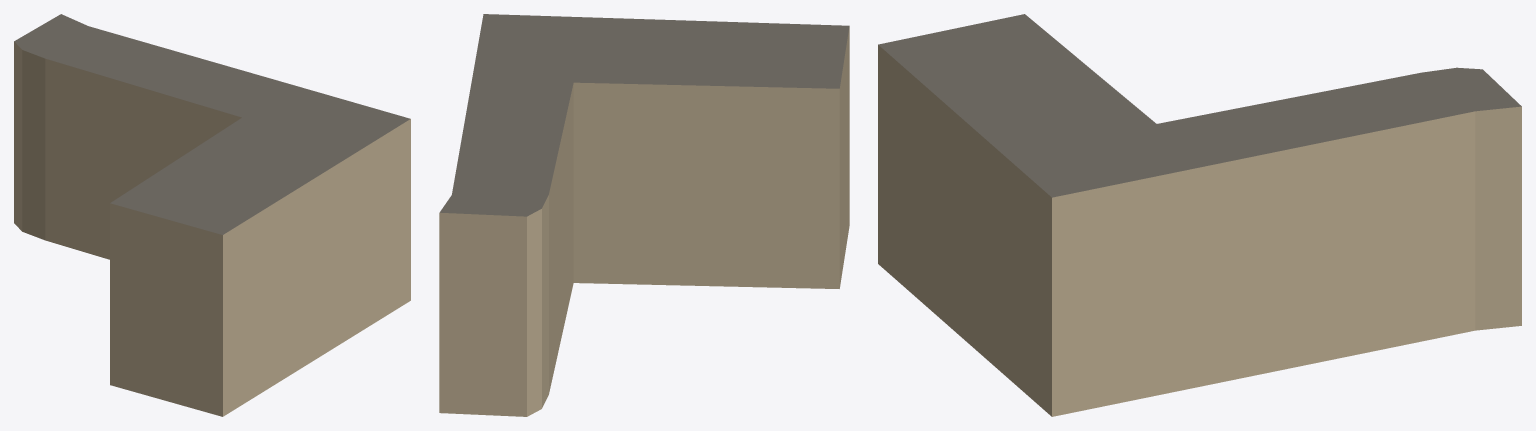
3 views of the same model, side by side, from view 1: azimuth 30°, elevation 25°; view 2: azimuth 150°, elevation 25°; view 3: azimuth 270°, elevation 25° (orthographic). The views are drawn at different scales.
Visible parts, largest first — view 1: HP-w505661373; view 2: HP-w505661373; view 3: HP-w505661373.
Part boxes in pixels (left/top/right/bottom): HP-w505661373: left=14, top=14, right=410, bottom=416; HP-w505661373: left=439, top=14, right=849, bottom=416; HP-w505661373: left=878, top=14, right=1521, bottom=416.
Bounding box in the file's own units: 29.63 × 16.5 × 43.91.
